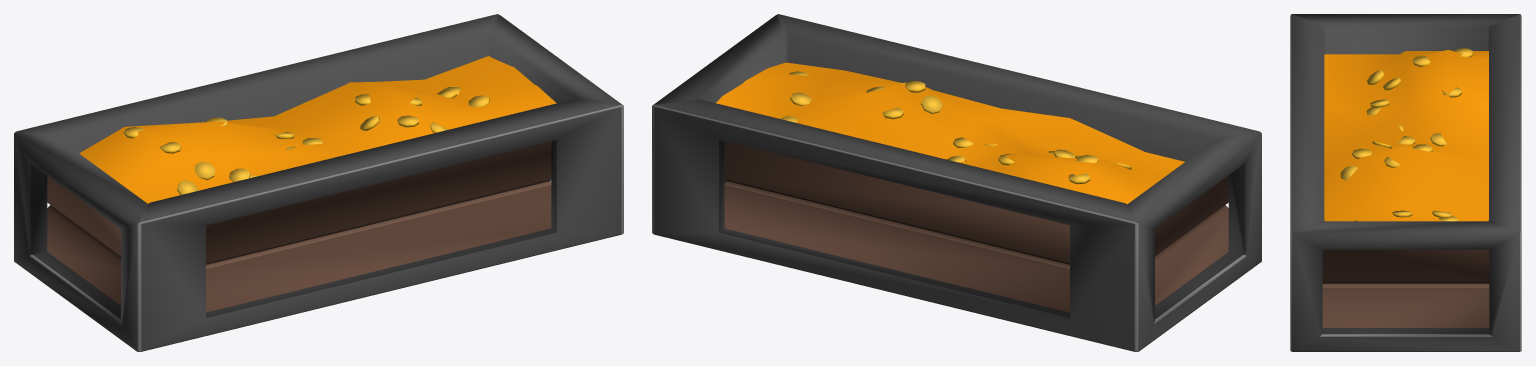
The model's file is chestBase.glb.
3 renders of one model, left to right at view 1: azimuth 30°, elevation 25°; view 2: azimuth 150°, elevation 25°; view 3: azimuth 270°, elevation 25°, orthographic. The views are drawn at different scales.
Visible parts, largest first — view 1: OpenChest_01; view 2: OpenChest_01; view 3: OpenChest_01.
Boxes of the visible parts, x1,y1,x2,y2 form: OpenChest_01: (14,14,623,351); OpenChest_01: (652,14,1261,351); OpenChest_01: (1290,14,1521,351).
Size of what is drawn, in the model's own units: 1.47 by 0.3998 by 0.6547.
Materials: 1 (1 with a texture image).
